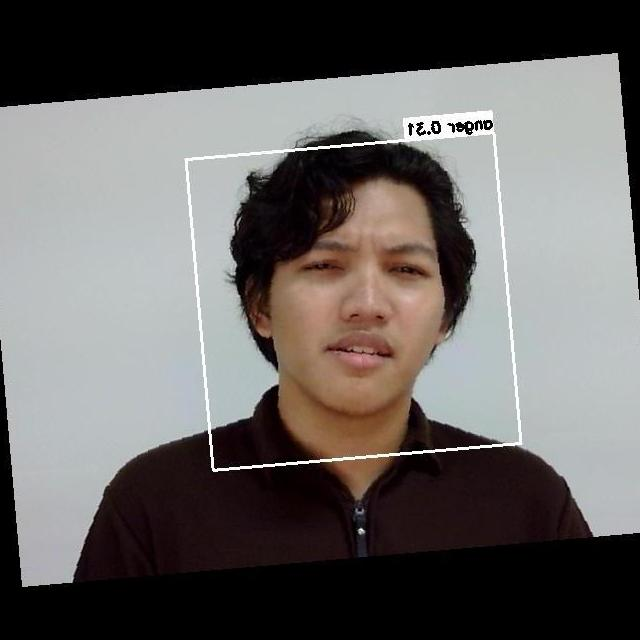Sad: (262, 210, 462, 390)
